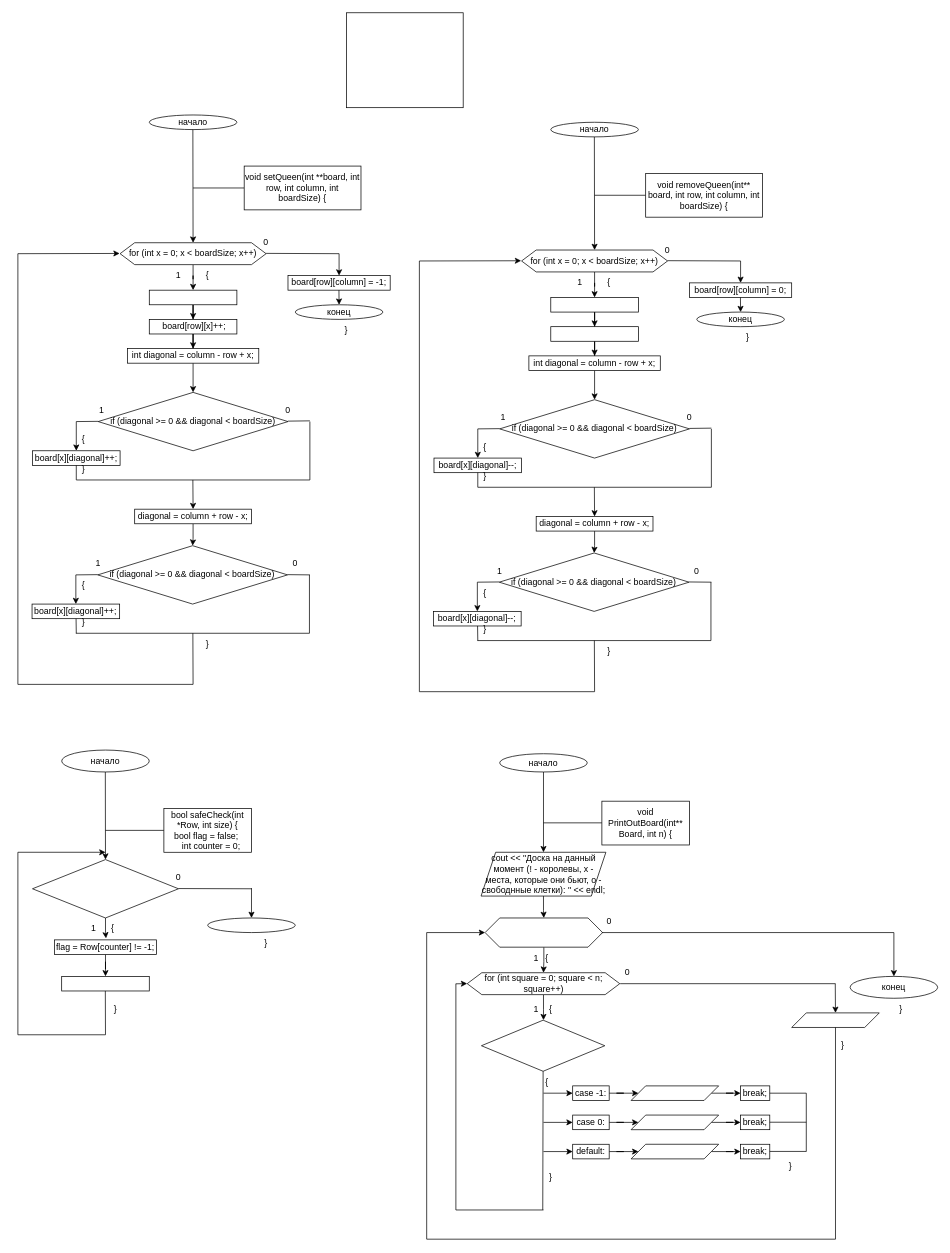
Image size: 950x1253. Some labels were removed from this diagram. Here are the shapes that lost their labels. From the top down, the box of each, then its label:
(346, 12, 463, 108): #include <iostream> using namespace std; int IterationsCounter = 0;
(149, 289, 237, 305): board[x][column]++;
(550, 297, 638, 312): board[x][column]--;
(550, 326, 638, 341): board[row][x]--;
(32, 859, 178, 918): while (!flag && counter < size)
(207, 917, 295, 933): return flag;
(484, 917, 603, 947): for (int row = 0; row < n; row++)
(61, 976, 149, 991): counter++;
(791, 1012, 879, 1027): cout << endl;
(481, 1019, 605, 1071): switch (Board[row][square])
(630, 1085, 719, 1100): cout << "!" << " ";
(630, 1114, 719, 1130): cout << "o" << " ";
(630, 1144, 719, 1159): cout << "x" << " ";
